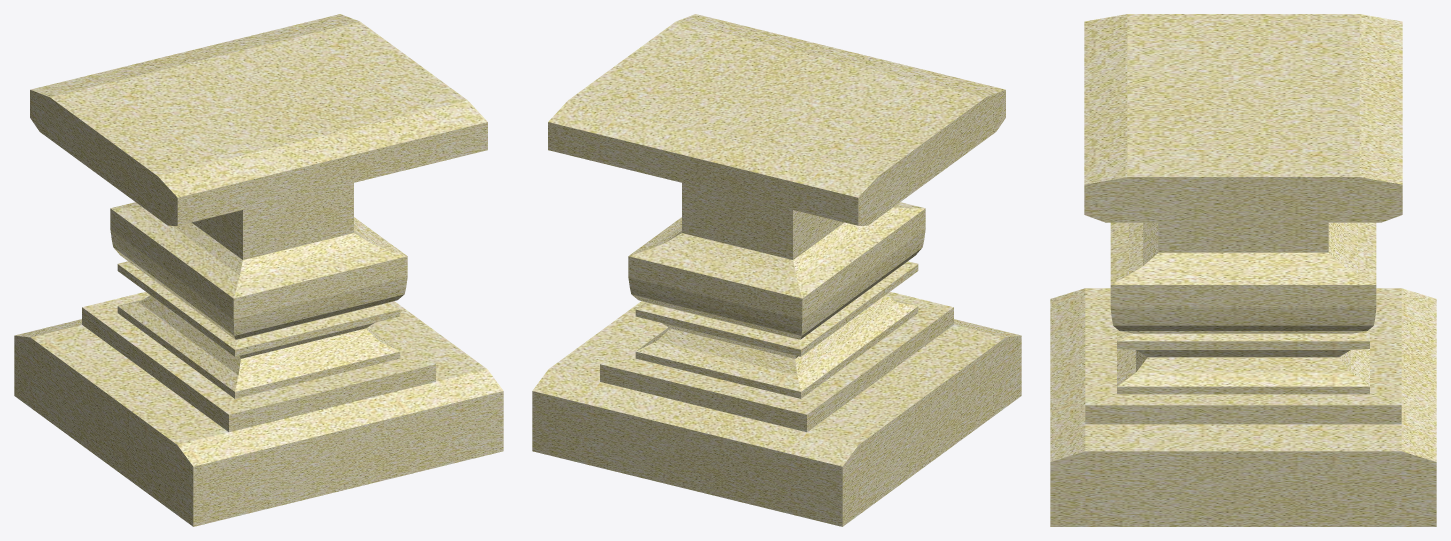
The model's file is sh-contrib-column-balustrade.glb.
3 renders of one model, left to right at view 1: azimuth 30°, elevation 25°; view 2: azimuth 150°, elevation 25°; view 3: azimuth 270°, elevation 25°, orthographic. The views are drawn at different scales.
Visible parts, largest first — view 1: 2_2; view 2: 2_2; view 3: 2_2.
Boxes of the visible parts, <box> form: 2_2: <box>14,14,503,526</box>; 2_2: <box>532,14,1021,526</box>; 2_2: <box>1050,14,1436,526</box>.
Bounding box in the file's own units: 1 × 1 × 1.
Materials: 1 (1 with a texture image).
